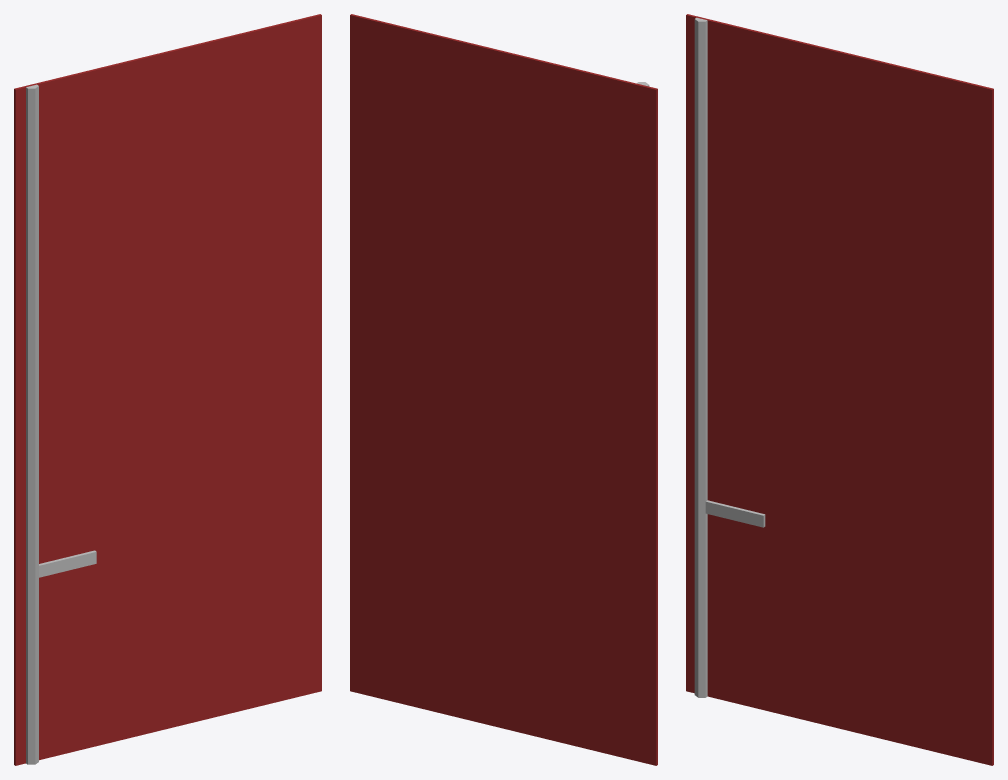
The model's file is Prop_Junk_Cargo_Shipping_Container_Door_02.FBX.
3 renders of one model, left to right at view 1: azimuth 30°, elevation 25°; view 2: azimuth 150°, elevation 25°; view 3: azimuth 330°, elevation 25°, orthographic.
Parts seen in each view (by area): view 1: Prop_Junk_Cargo_Shipping_Container_Door_02; view 2: Prop_Junk_Cargo_Shipping_Container_Door_02; view 3: Prop_Junk_Cargo_Shipping_Container_Door_02.
Part boxes in pixels (<box>): Prop_Junk_Cargo_Shipping_Container_Door_02: <box>14,14,321,765</box>; Prop_Junk_Cargo_Shipping_Container_Door_02: <box>350,14,657,765</box>; Prop_Junk_Cargo_Shipping_Container_Door_02: <box>686,14,993,765</box>.
Size of the model in its own units: 1424 by 3004 by 41.53.
